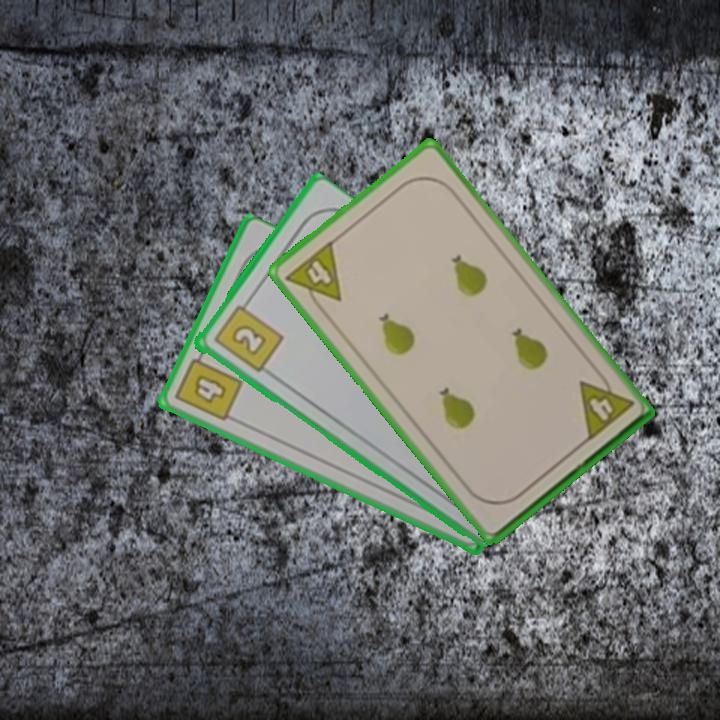2b: (209, 295, 286, 376)
4b: (171, 346, 246, 425)
4p: (282, 237, 345, 317), (575, 366, 637, 444)
